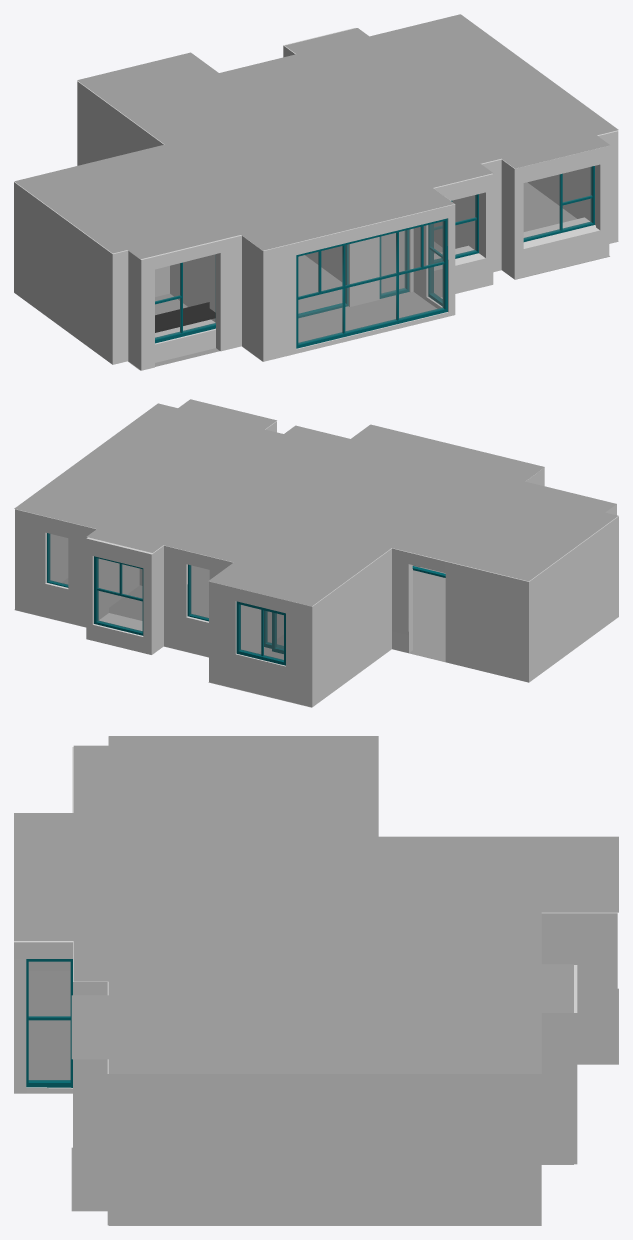
Rendered from home.fbx.
3 views of the same model, one above another, from view 1: azimuth 30°, elevation 25°; view 2: azimuth 150°, elevation 25°; view 3: azimuth 270°, elevation 25° (orthographic). The views are drawn at different scales.
Parts seen in each view (by area): view 1: ceiling, wall, glass9, floor, glass4, glass8, window1, glass10, glass7, table, window4, glass3 (+3 smaller); view 2: ceiling, wall, floor, glass6, glass5, window7, glass, glass2, window6; view 3: ceiling, wall, floor, glass3, window2.
Part boxes in pixels (left/top/right/bottom): ceiling: left=14, top=14, right=618, bottom=259; wall: left=14, top=28, right=618, bottom=370; glass9: left=298, top=221, right=443, bottom=343; floor: left=128, top=182, right=609, bottom=370; glass4: left=155, top=254, right=215, bottom=338; glass8: left=524, top=167, right=591, bottom=238; window1: left=296, top=218, right=447, bottom=348; glass10: left=381, top=231, right=405, bottom=293; glass7: left=452, top=195, right=476, bottom=255; table: left=155, top=302, right=215, bottom=332; window4: left=523, top=166, right=594, bottom=241; glass3: left=431, top=222, right=442, bottom=300; ceiling: left=14, top=399, right=618, bottom=606; wall: left=15, top=421, right=618, bottom=707; floor: left=14, top=565, right=445, bottom=707; glass6: left=97, top=558, right=142, bottom=631; glass5: left=240, top=605, right=283, bottom=660; window7: left=94, top=556, right=143, bottom=635; glass: left=190, top=565, right=209, bottom=618; glass2: left=49, top=534, right=67, bottom=585; window6: left=236, top=601, right=285, bottom=665; ceiling: left=14, top=736, right=618, bottom=1073; wall: left=14, top=737, right=617, bottom=1225; floor: left=28, top=970, right=618, bottom=1225; glass3: left=29, top=962, right=70, bottom=1080; window2: left=26, top=959, right=72, bottom=1087.
Bounding box in the file's own units: 2152 × 459 × 1628.
